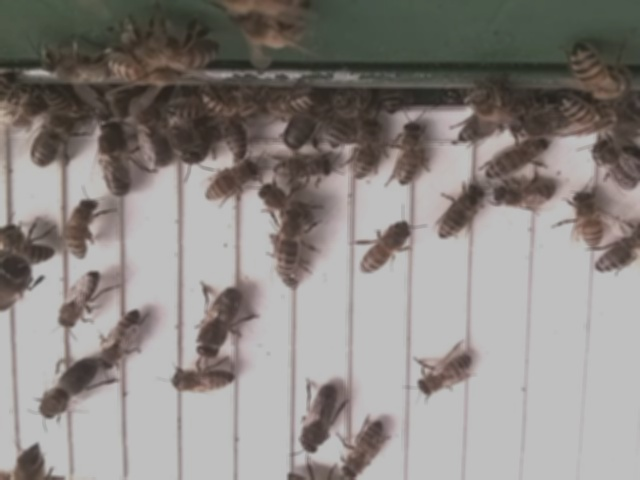Drone: (34, 353, 98, 424), (193, 286, 246, 362), (95, 119, 134, 198), (298, 384, 338, 456)
Worker: (357, 220, 412, 277), (94, 309, 143, 372), (338, 418, 386, 480), (56, 269, 102, 332), (484, 137, 549, 180), (0, 221, 58, 268), (592, 140, 640, 196), (414, 352, 472, 398), (437, 184, 481, 242), (62, 196, 99, 262), (202, 160, 255, 206), (350, 120, 384, 186), (395, 121, 427, 189), (166, 366, 238, 396), (592, 232, 640, 276), (568, 190, 603, 250), (274, 208, 304, 277), (491, 180, 554, 211), (273, 154, 334, 185)
